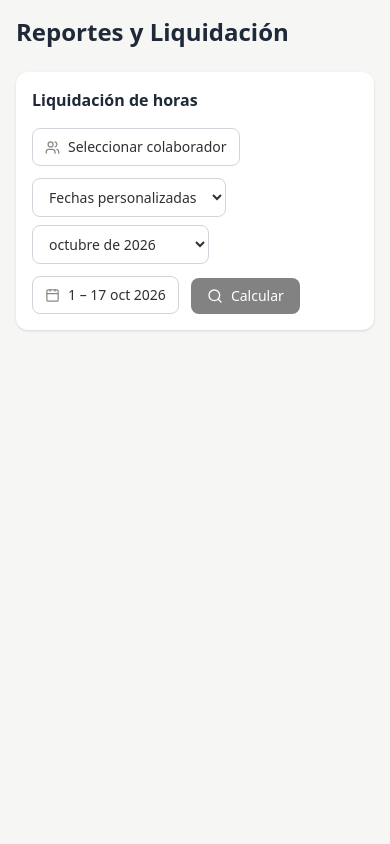
Test: el auxilio de transporte en el reporte por persona › se muestra como línea propia, con su valor del período
Click the button "Seleccionar colaborador".
click(136, 147)  # box [32,128,240,166]
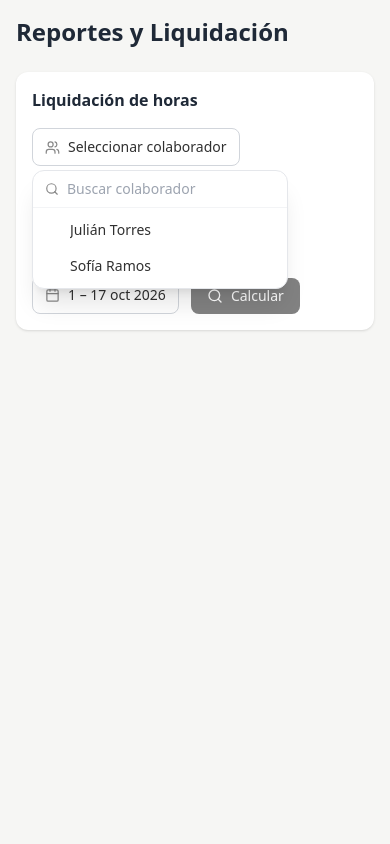
Click the button "Julián Torres".
click(160, 230)  # box [33,212,287,248]
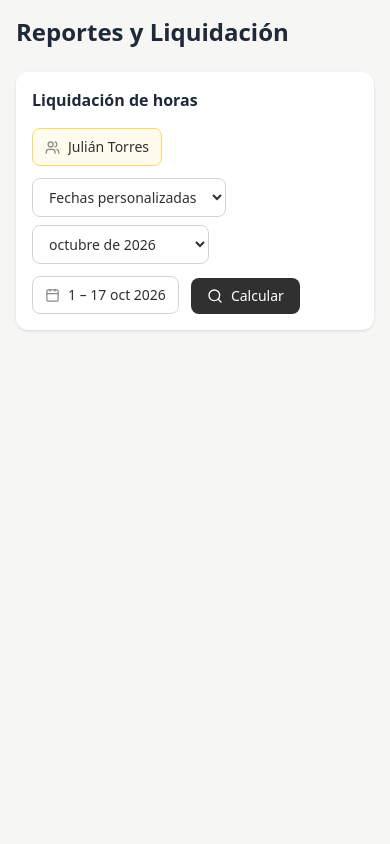
Click the button "Calcular".
click(245, 296)  # box [191,278,300,314]
(page scrolled)
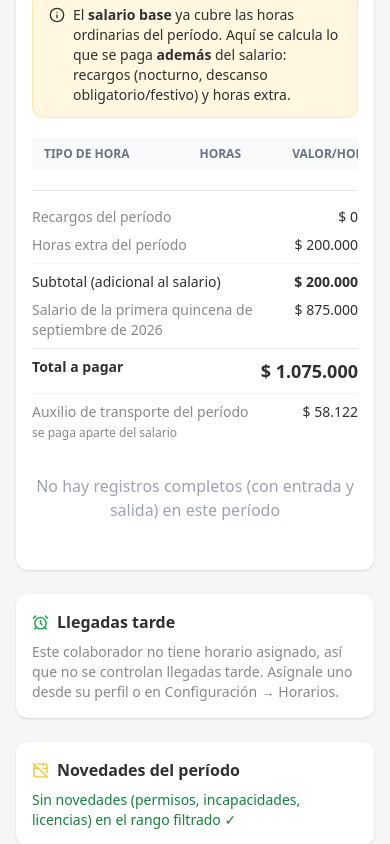
expect the text "Auxilio de transporte del período" is shown: met, box [32,402,248,421]
